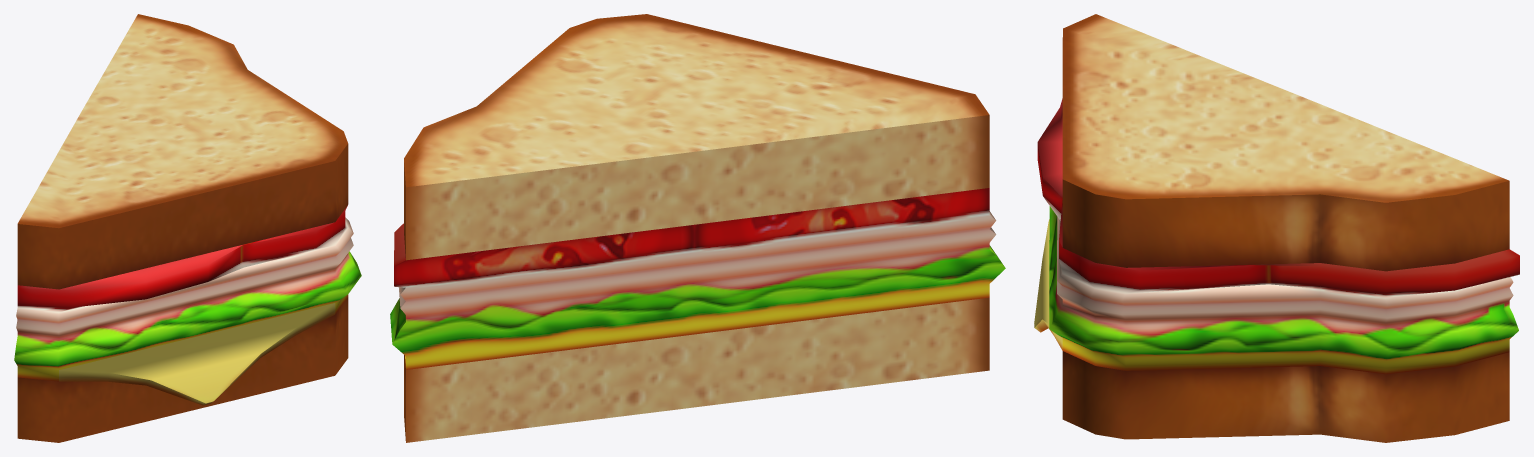
Rendered from 007-Sandwich_Deli_Half.FBX.
The picture shows the model from 3 angles, left to right: view 1: azimuth 30°, elevation 25°; view 2: azimuth 150°, elevation 25°; view 3: azimuth 270°, elevation 25°; orthographic projection. The views are drawn at different scales.
Visible parts, largest first — view 1: 007-Sandwich_Deli_Half; view 2: 007-Sandwich_Deli_Half; view 3: 007-Sandwich_Deli_Half.
Boxes of the visible parts, x1,y1,x2,y2 form: 007-Sandwich_Deli_Half: (14, 14, 361, 442); 007-Sandwich_Deli_Half: (390, 14, 1005, 442); 007-Sandwich_Deli_Half: (1034, 14, 1519, 442).
Bounding box in the file's own units: 16.56 × 9.34 × 17.12.
